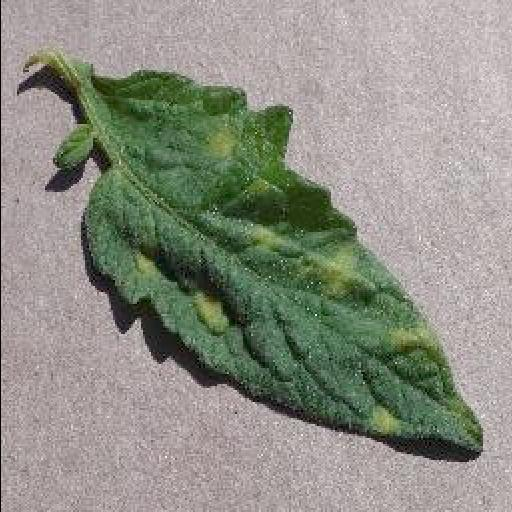disease_tomato: (82, 68, 484, 458)
